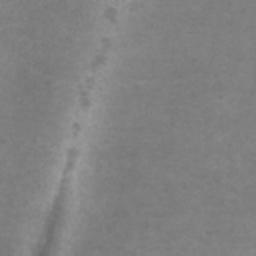Finishing roll printing: (35, 147, 81, 256), (92, 37, 111, 70), (79, 77, 95, 108), (105, 6, 115, 23), (73, 123, 79, 137)
